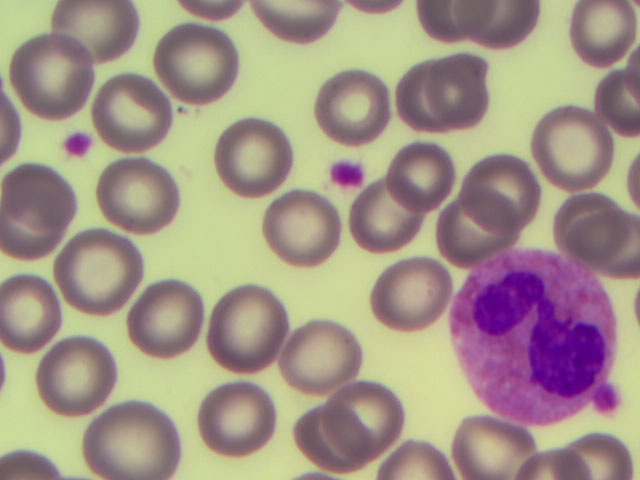Platelets: (329, 151, 370, 193), (58, 128, 93, 158)
RBC: (14, 34, 96, 116), (93, 73, 175, 155), (156, 27, 238, 109), (87, 405, 163, 480), (295, 405, 371, 480), (455, 405, 531, 480), (100, 160, 176, 234), (14, 159, 90, 233), (62, 232, 138, 306), (43, 338, 119, 412), (125, 284, 201, 358), (202, 293, 278, 367), (192, 385, 268, 459), (283, 316, 359, 390), (334, 376, 410, 450), (371, 260, 447, 334), (262, 190, 338, 264), (214, 119, 290, 193), (311, 70, 387, 144), (380, 52, 456, 126), (413, 47, 489, 121), (467, 152, 543, 226), (432, 197, 508, 271), (387, 139, 463, 213), (350, 185, 426, 259), (549, 185, 625, 259), (536, 113, 612, 187), (1, 189, 76, 263), (1, 276, 76, 350), (563, 1, 639, 74), (54, 1, 137, 58), (555, 430, 636, 478), (259, 1, 341, 47)
WBC: (444, 251, 605, 411)
